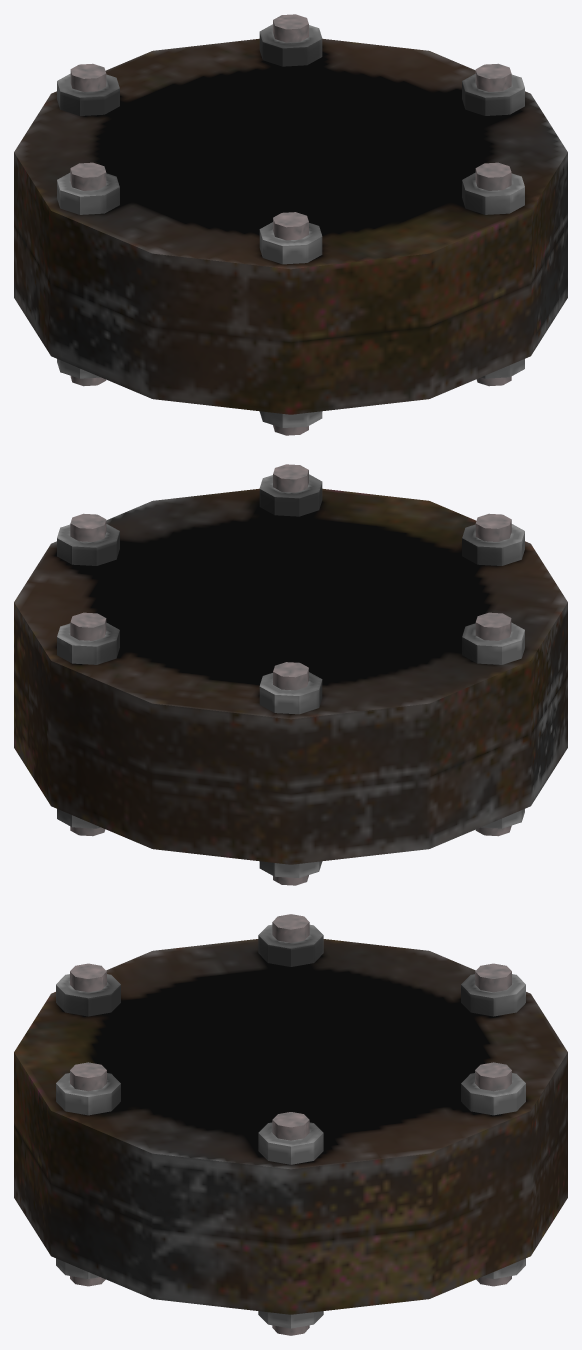
Rendered from NM_BigTube_Connector_02.fbx.
The picture shows the model from 3 angles, top to bottom: view 1: azimuth 30°, elevation 25°; view 2: azimuth 150°, elevation 25°; view 3: azimuth 270°, elevation 25°; orthographic projection.
Parts seen in each view (by area): view 1: Connector_03_low015; view 2: Connector_03_low015; view 3: Connector_03_low015.
Boxes of the visible parts, x1,y1,x2,y2 form: Connector_03_low015: (14, 14, 567, 435); Connector_03_low015: (14, 464, 567, 885); Connector_03_low015: (14, 914, 567, 1335).
Size of the model in its own units: 42.05 by 17.45 by 42.05.
